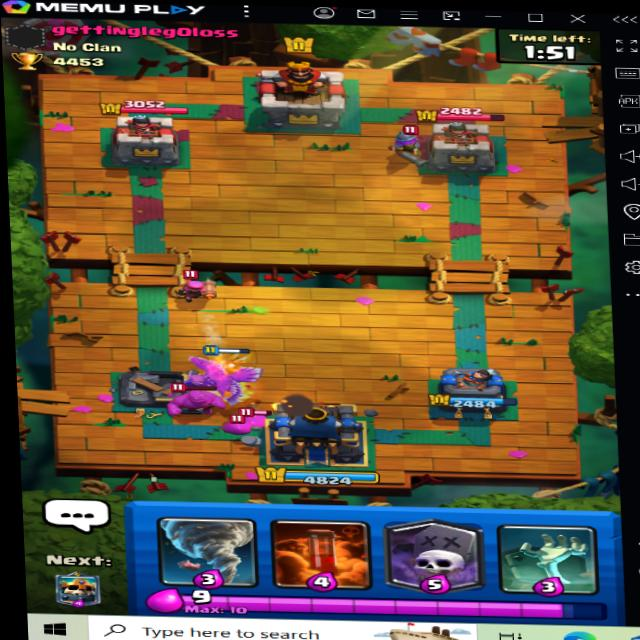electro-golem: (154, 377, 240, 413), (248, 405, 276, 429), (230, 416, 254, 434)
firecracker: (163, 265, 230, 312)
musketeer: (378, 124, 437, 169)
